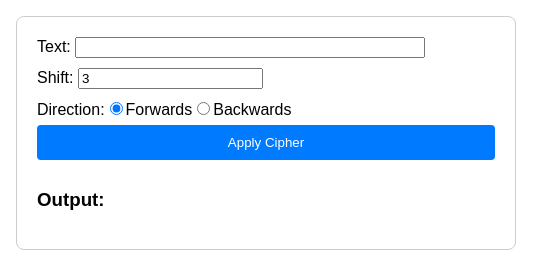
Scenario: CaesarCipher Component › handles backward direction cipher
The image size is (533, 267).
Type "ifmmp" into the field labelled "Text:" at (250,48), box [75,37,425,58]
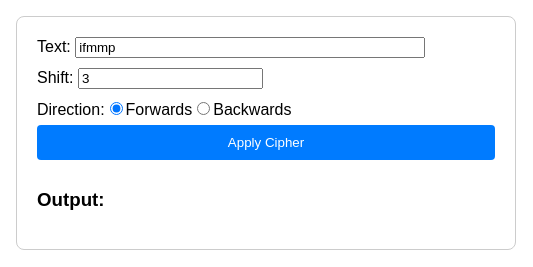
Replace the text in the number field labelled "Shift:" with "1" at (170,78), box [78,68,263,89]
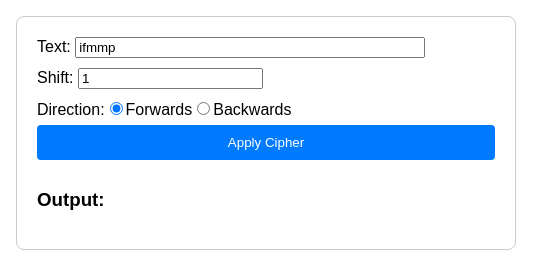
Click the radio button labelled "Backwards" at (204,108), box [197,102,210,115]
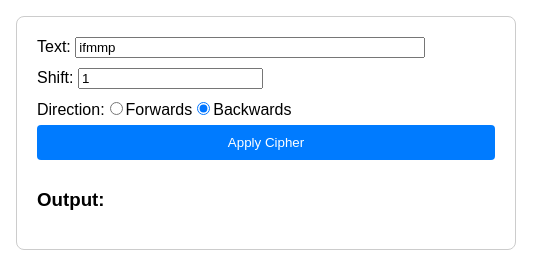
Click the button "Apply Cipher" at (266,142), box [37,125,495,160]
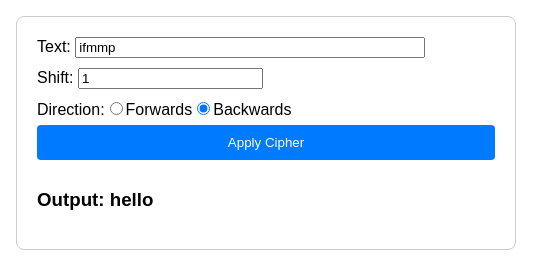
Expected: the heading "Output: hello" is shown, [37,189,153,210]
